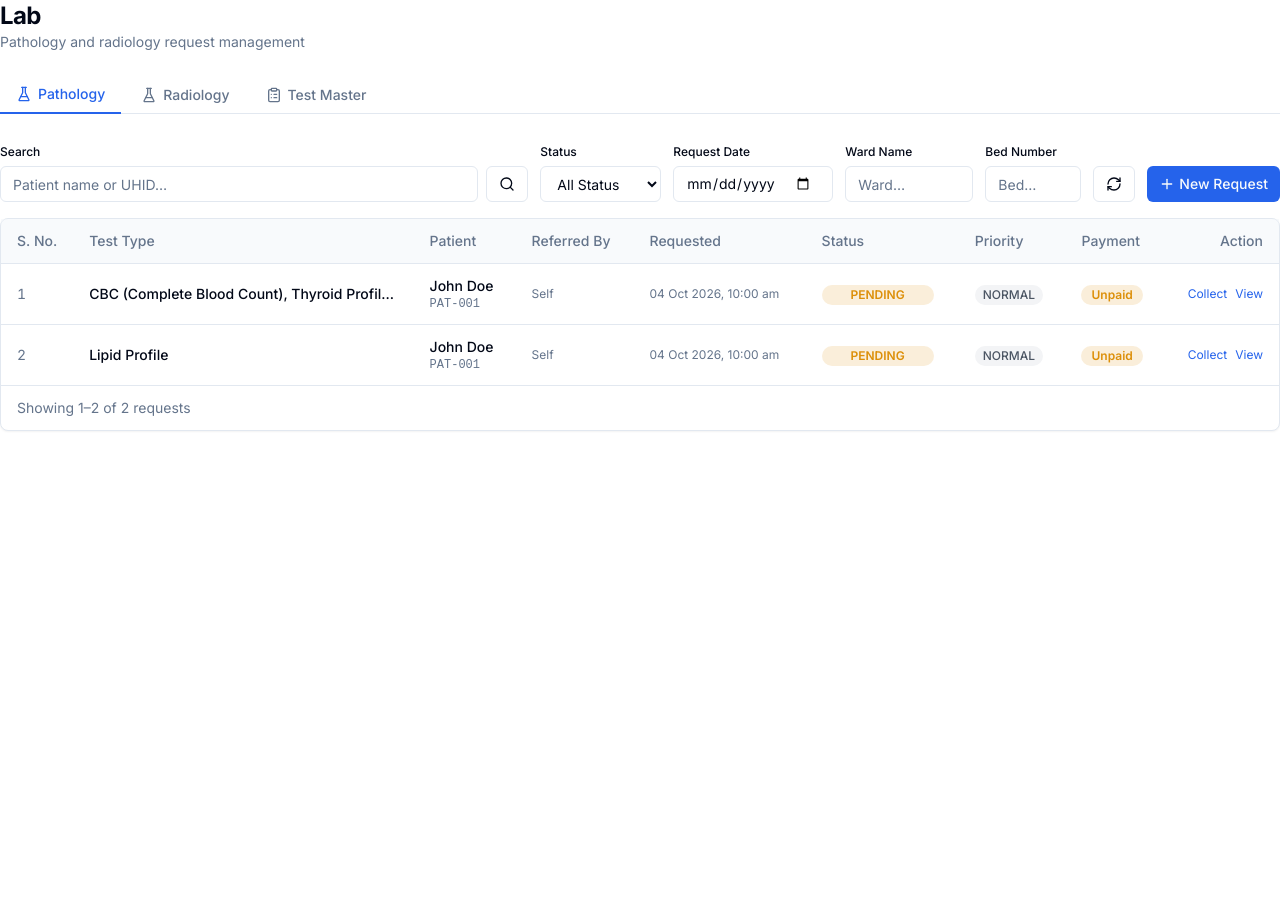
it: Lab View — OPD and IPD requests for the same patient › the IPD request shows only its admission date, ward, bed, department and doctors
Click the button "View" in the row of "Lipid Profile": [1249, 355] box top-left (1235, 347), bottom-right (1263, 363)
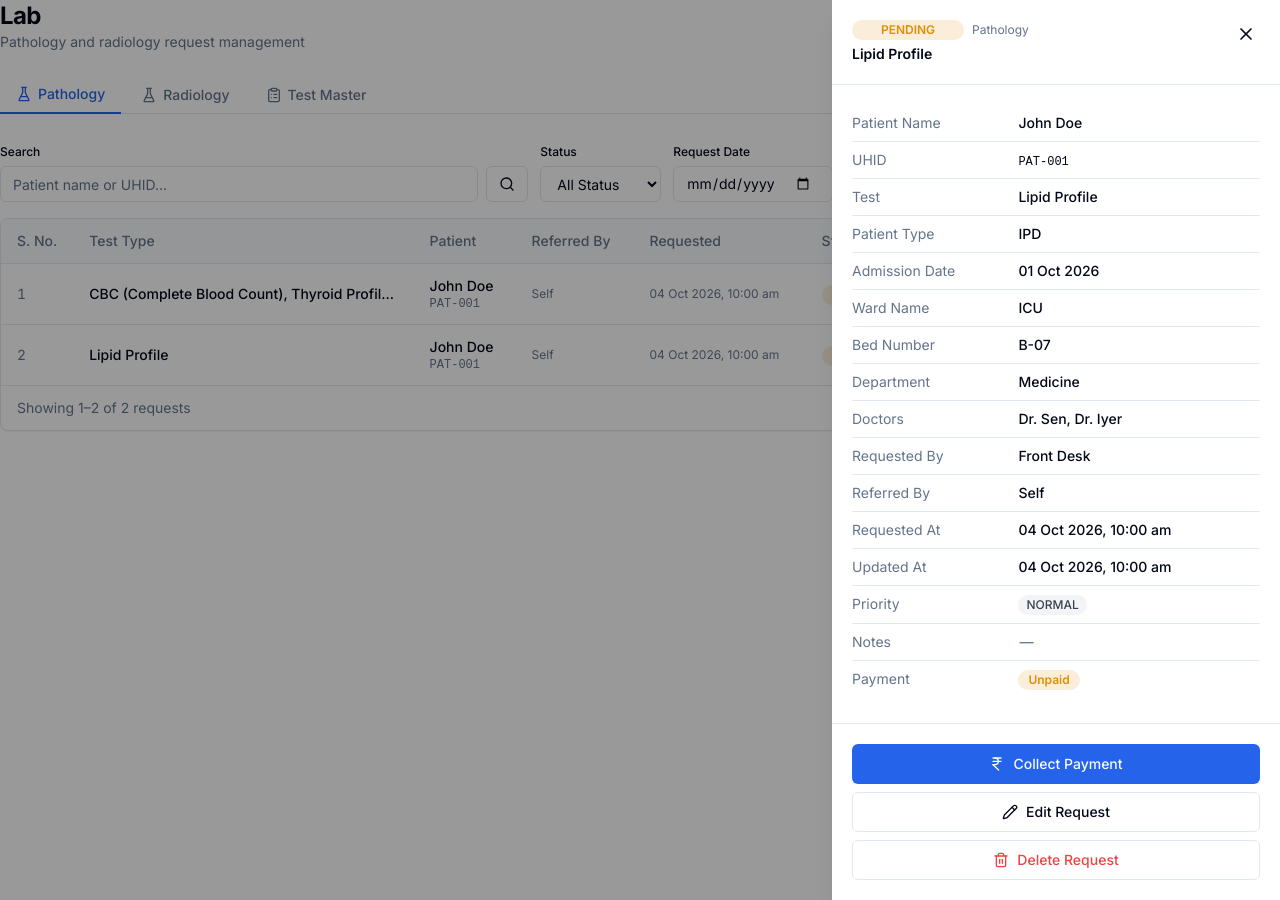
Now the text "IPD" is shown, box top-left (1018, 225), bottom-right (1041, 242)
Now the text "01 Oct 2026" is shown, box top-left (1018, 262), bottom-right (1099, 279)
Now the text "ICU" is shown, box top-left (1018, 299), bottom-right (1043, 316)
